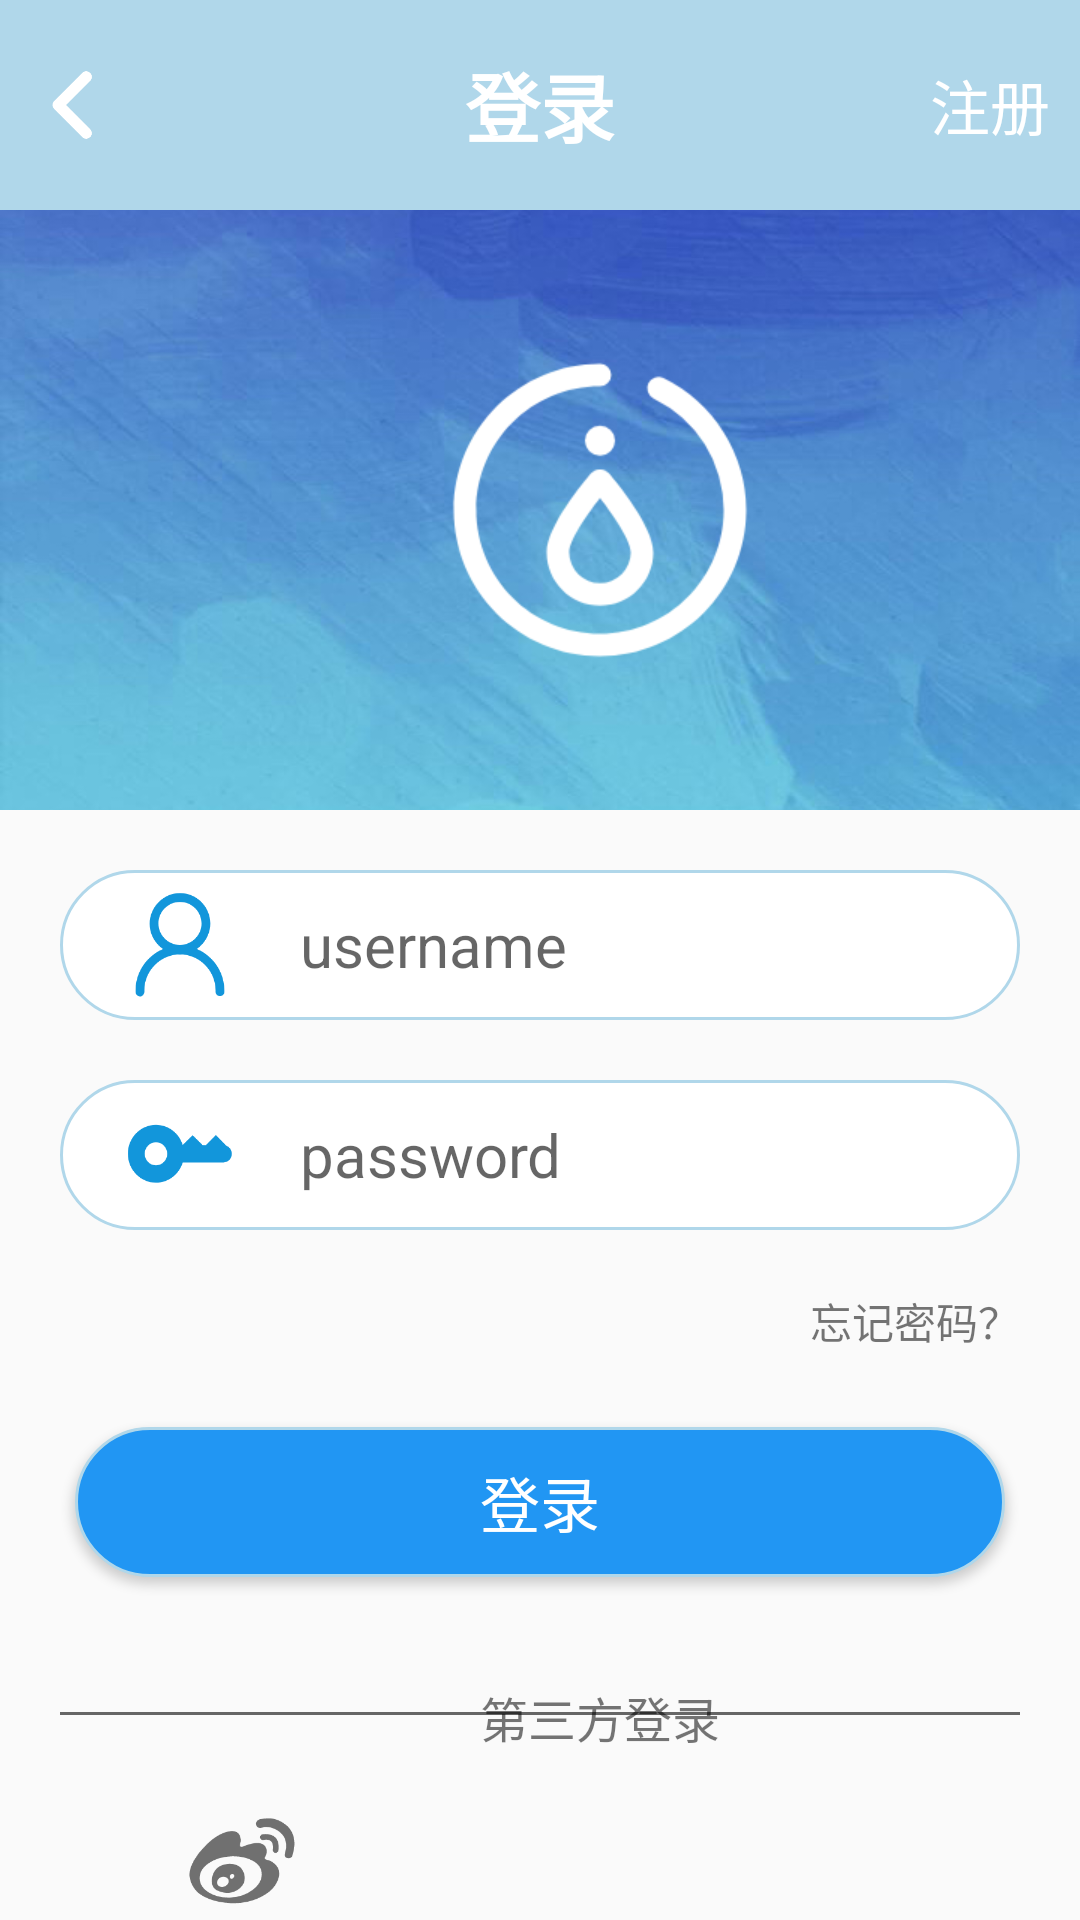

Where icons sit on this 1080px×1920px app screen, as (x1=x1, y1=y1, x2=x2, y2=y2):
back: (x1=52, y1=71, x2=92, y2=139)
